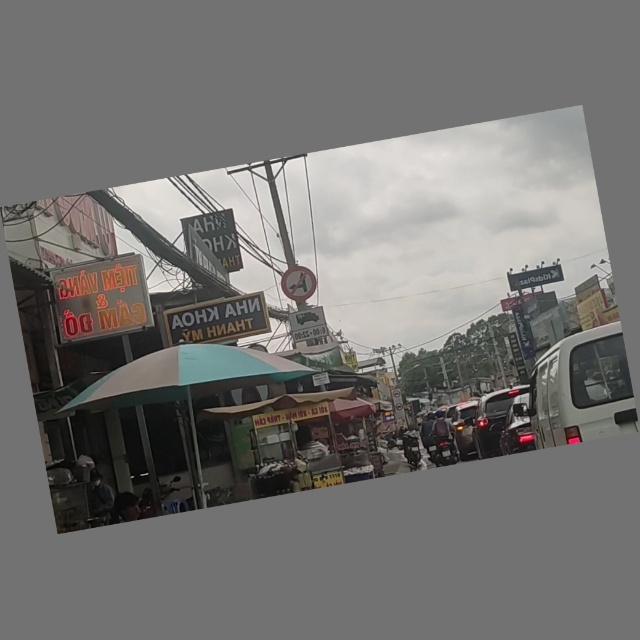P.139: (280, 264, 318, 303)
S.505a*Xe tai: (289, 307, 329, 343)
